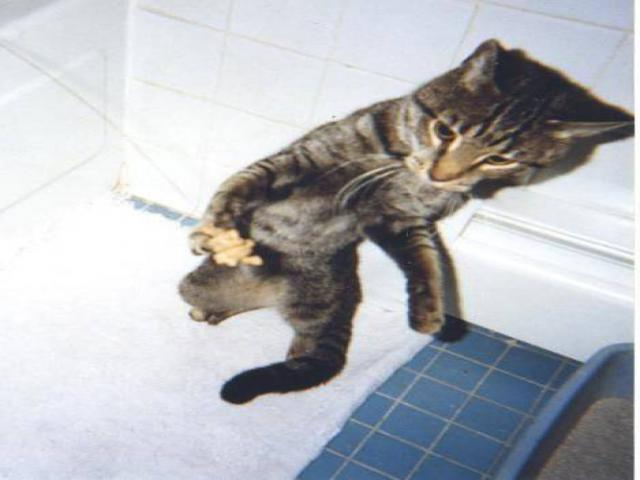cat: (177, 40, 632, 411)
